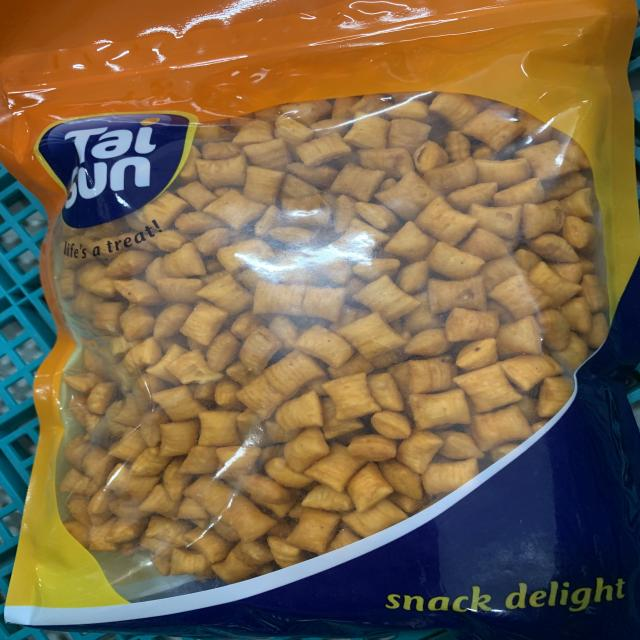object_name: (23, 11, 640, 634)
